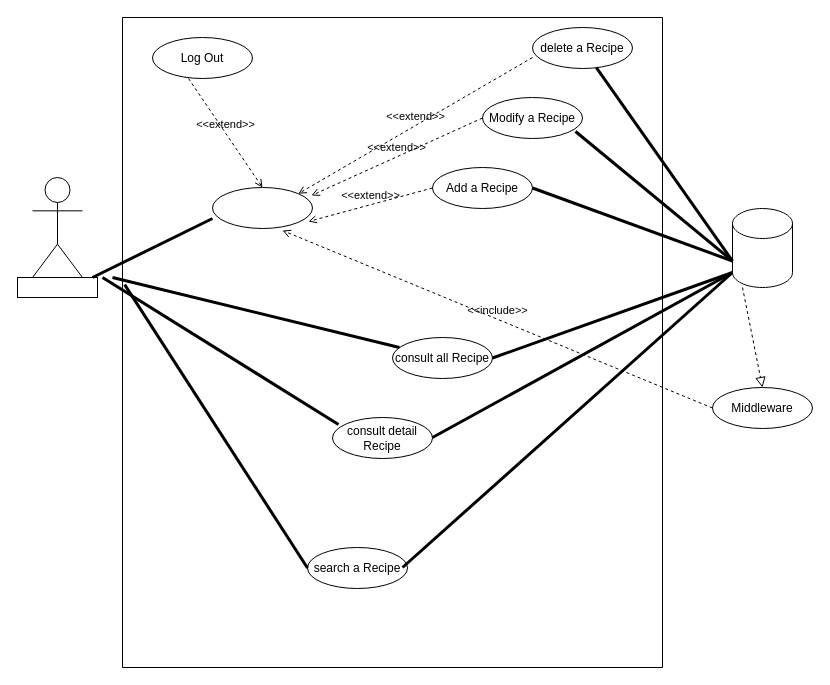
Some shapes in this 830 by 685 pixel diagram are drawn without their labels. Here are the shapes that lost their labels. From the top down, the centre of each, then its label:
point (57, 227): Actor
point (262, 207): LogIn
point (762, 248): DB
point (57, 287): User
